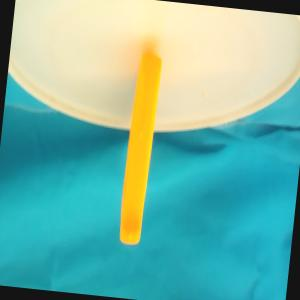serrote: (117, 50, 163, 246)
